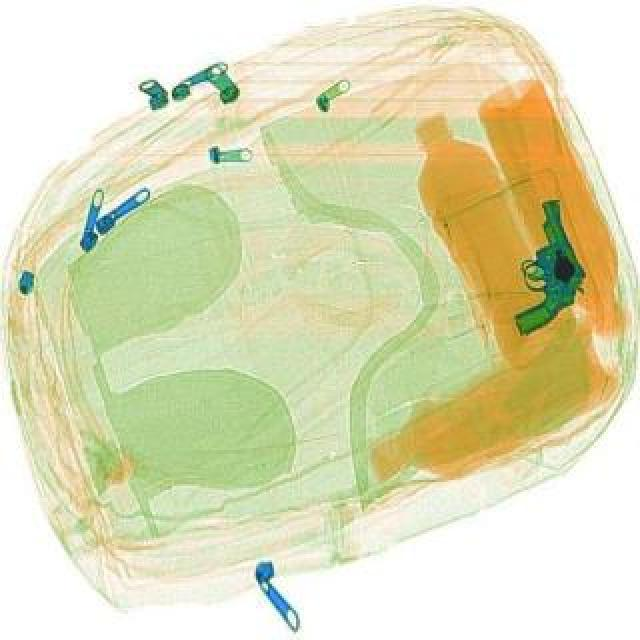gun: (474, 204, 610, 340)
